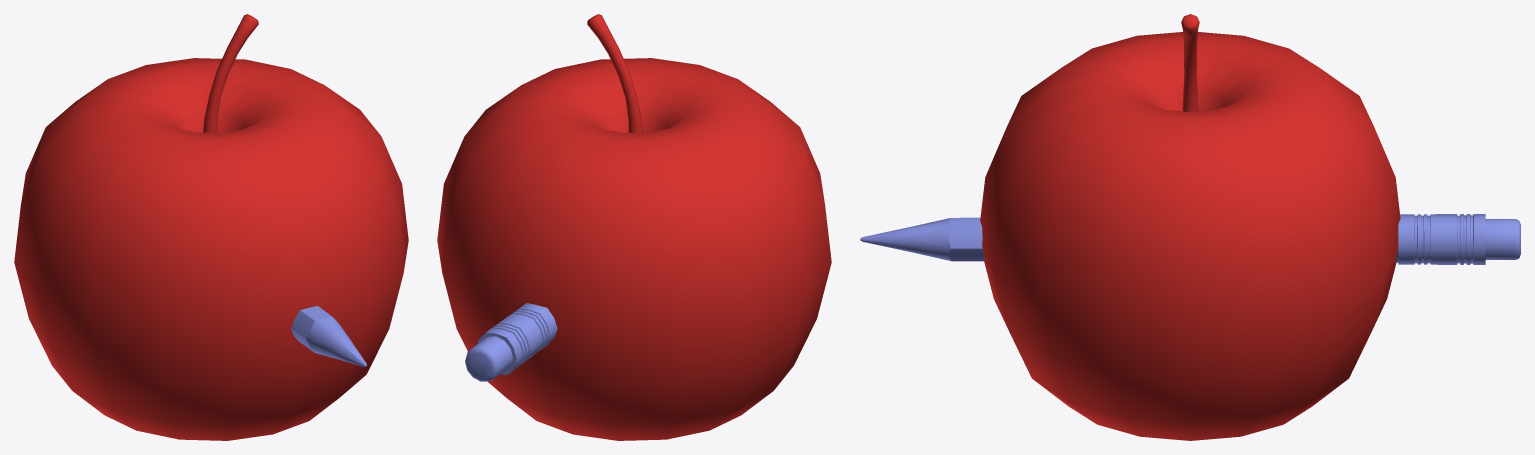
Rendered from asset_applePen.glb.
3 renders of one model, left to right at view 1: azimuth 30°, elevation 25°; view 2: azimuth 150°, elevation 25°; view 3: azimuth 270°, elevation 25°, orthographic. The views are drawn at different scales.
Visible parts, largest first — view 1: apple, pencil_01; view 2: apple, pencil_01; view 3: apple, pencil_01.
Boxes of the visible parts, left/top/right/bottom form: apple: left=14, top=14, right=408, bottom=440; pencil_01: left=291, top=306, right=366, bottom=366; apple: left=437, top=14, right=831, bottom=440; pencil_01: left=465, top=303, right=557, bottom=381; apple: left=980, top=14, right=1400, bottom=440; pencil_01: left=860, top=214, right=1520, bottom=264.
Size of the model in its own units: 3.04 by 3.19 by 4.72.
